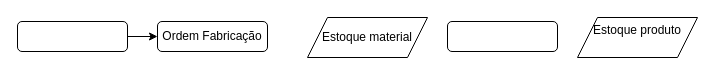
Image size: 715x75. Some labels were removed from this diagram. Each missing label, with the centre of its shape:
"Plano de produção" goes at [72,36].
"Roteiro de produção" goes at [502,36].
